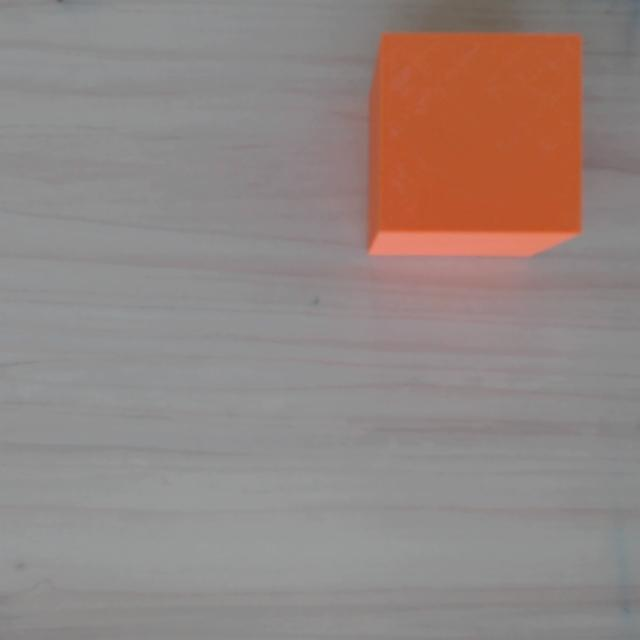Kubus-Jingga-505050: (367, 32, 583, 257)
